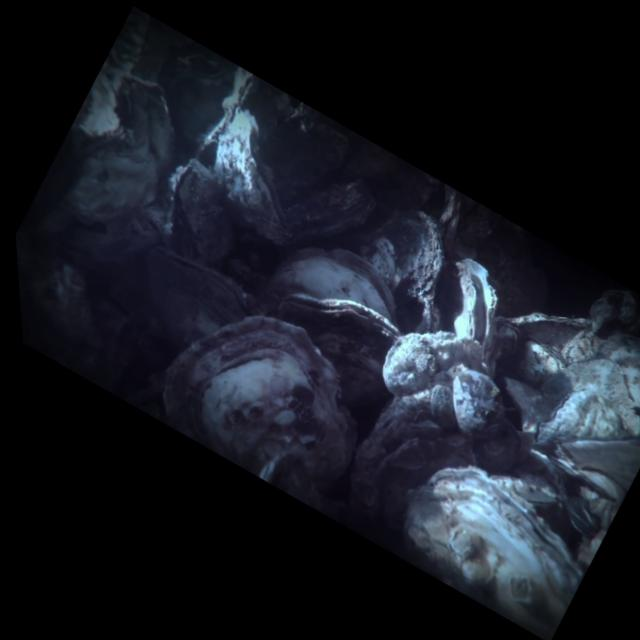Oyster-Closed: (395, 465, 583, 638), (276, 287, 402, 408), (205, 105, 295, 244), (371, 208, 449, 333), (161, 155, 240, 267), (530, 384, 637, 450), (497, 310, 591, 343), (487, 473, 560, 508), (427, 383, 461, 433)
Oyster-Indeterminate: (156, 311, 357, 494), (325, 388, 480, 560), (265, 239, 408, 335), (144, 242, 255, 347), (380, 329, 490, 396), (450, 364, 508, 443)
Oyster-Open: (447, 253, 506, 365)
